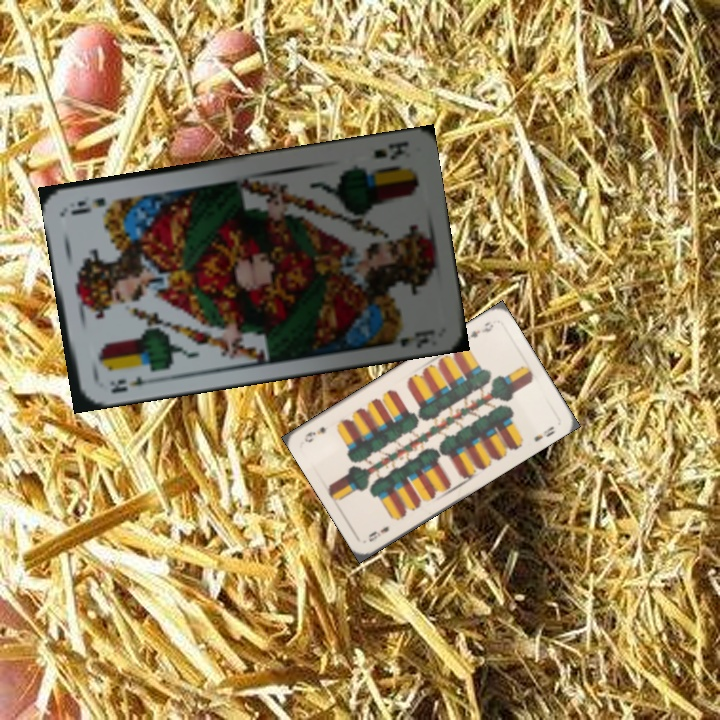E9: (460, 318, 496, 344), (364, 522, 392, 544)
EK: (106, 373, 154, 396), (369, 137, 412, 162)
